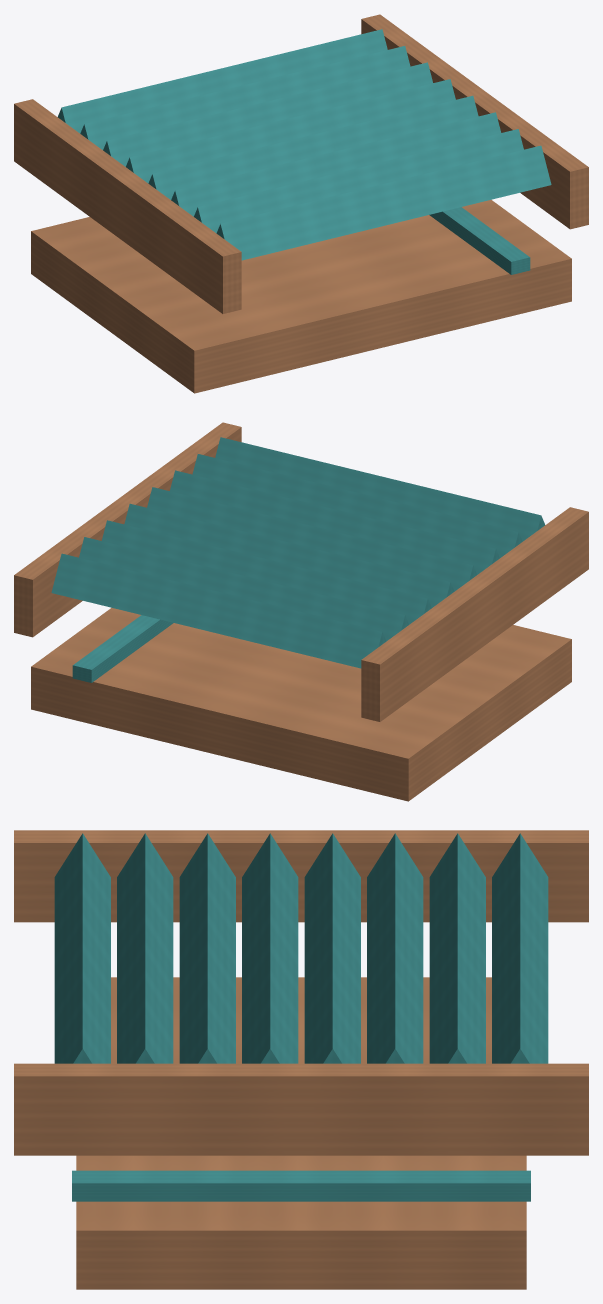
File: atlas100-s098-a02.lod2.glb
3 views of the same model, one above another, from view 1: azimuth 30°, elevation 25°; view 2: azimuth 150°, elevation 25°; view 3: azimuth 270°, elevation 25° (orthographic). The views are drawn at different scales.
Visible parts, largest first — view 1: atlas100-s098-a02:part-000, atlas100-s098-a02:part-011, atlas100-s098-a02:part-010, atlas100-s098-a02:part-008, atlas100-s098-a02:part-004, atlas100-s098-a02:part-003, atlas100-s098-a02:part-005, atlas100-s098-a02:part-007, atlas100-s098-a02:part-009, atlas100-s098-a02:part-006, atlas100-s098-a02:part-012, atlas100-s098-a02:part-002; view 2: atlas100-s098-a02:part-000, atlas100-s098-a02:part-011, atlas100-s098-a02:part-003, atlas100-s098-a02:part-005, atlas100-s098-a02:part-009, atlas100-s098-a02:part-006, atlas100-s098-a02:part-008, atlas100-s098-a02:part-010, atlas100-s098-a02:part-004, atlas100-s098-a02:part-007, atlas100-s098-a02:part-012, atlas100-s098-a02:part-002; view 3: atlas100-s098-a02:part-012, atlas100-s098-a02:part-000, atlas100-s098-a02:part-011, atlas100-s098-a02:part-002, atlas100-s098-a02:part-003, atlas100-s098-a02:part-004, atlas100-s098-a02:part-005, atlas100-s098-a02:part-006, atlas100-s098-a02:part-007, atlas100-s098-a02:part-008, atlas100-s098-a02:part-009, atlas100-s098-a02:part-010.
Boxes of the visible parts, bbox=[...] form: atlas100-s098-a02:part-000: bbox=[31, 199, 571, 393]; atlas100-s098-a02:part-011: bbox=[14, 99, 241, 313]; atlas100-s098-a02:part-010: bbox=[216, 145, 551, 260]; atlas100-s098-a02:part-008: bbox=[171, 112, 501, 216]; atlas100-s098-a02:part-004: bbox=[80, 46, 410, 149]; atlas100-s098-a02:part-003: bbox=[58, 29, 387, 133]; atlas100-s098-a02:part-005: bbox=[103, 62, 432, 166]; atlas100-s098-a02:part-007: bbox=[148, 95, 478, 199]; atlas100-s098-a02:part-009: bbox=[194, 129, 523, 233]; atlas100-s098-a02:part-006: bbox=[126, 79, 455, 183]; atlas100-s098-a02:part-012: bbox=[361, 14, 588, 229]; atlas100-s098-a02:part-002: bbox=[429, 207, 530, 274]; atlas100-s098-a02:part-000: bbox=[31, 607, 571, 801]; atlas100-s098-a02:part-011: bbox=[361, 507, 588, 721]; atlas100-s098-a02:part-003: bbox=[51, 553, 386, 668]; atlas100-s098-a02:part-005: bbox=[101, 520, 431, 624]; atlas100-s098-a02:part-009: bbox=[192, 454, 522, 557]; atlas100-s098-a02:part-006: bbox=[124, 503, 454, 607]; atlas100-s098-a02:part-008: bbox=[170, 470, 499, 574]; atlas100-s098-a02:part-010: bbox=[215, 437, 544, 541]; atlas100-s098-a02:part-004: bbox=[79, 537, 408, 641]; atlas100-s098-a02:part-007: bbox=[147, 487, 476, 591]; atlas100-s098-a02:part-012: bbox=[14, 422, 241, 637]; atlas100-s098-a02:part-002: bbox=[72, 615, 173, 682]; atlas100-s098-a02:part-012: bbox=[14, 1063, 588, 1155]; atlas100-s098-a02:part-000: bbox=[76, 977, 526, 1289]; atlas100-s098-a02:part-011: bbox=[14, 830, 588, 922]; atlas100-s098-a02:part-002: bbox=[72, 1170, 530, 1201]; atlas100-s098-a02:part-003: bbox=[492, 833, 548, 1063]; atlas100-s098-a02:part-004: bbox=[429, 833, 485, 1063]; atlas100-s098-a02:part-005: bbox=[367, 833, 423, 1063]; atlas100-s098-a02:part-006: bbox=[304, 833, 360, 1063]; atlas100-s098-a02:part-007: bbox=[242, 833, 298, 1063]; atlas100-s098-a02:part-008: bbox=[179, 833, 235, 1063]; atlas100-s098-a02:part-009: bbox=[117, 833, 173, 1063]; atlas100-s098-a02:part-010: bbox=[54, 833, 110, 1063].
Bounding box in the file's own units: 2.4 × 0.98 × 2.3.
2 materials, 2 textured.
